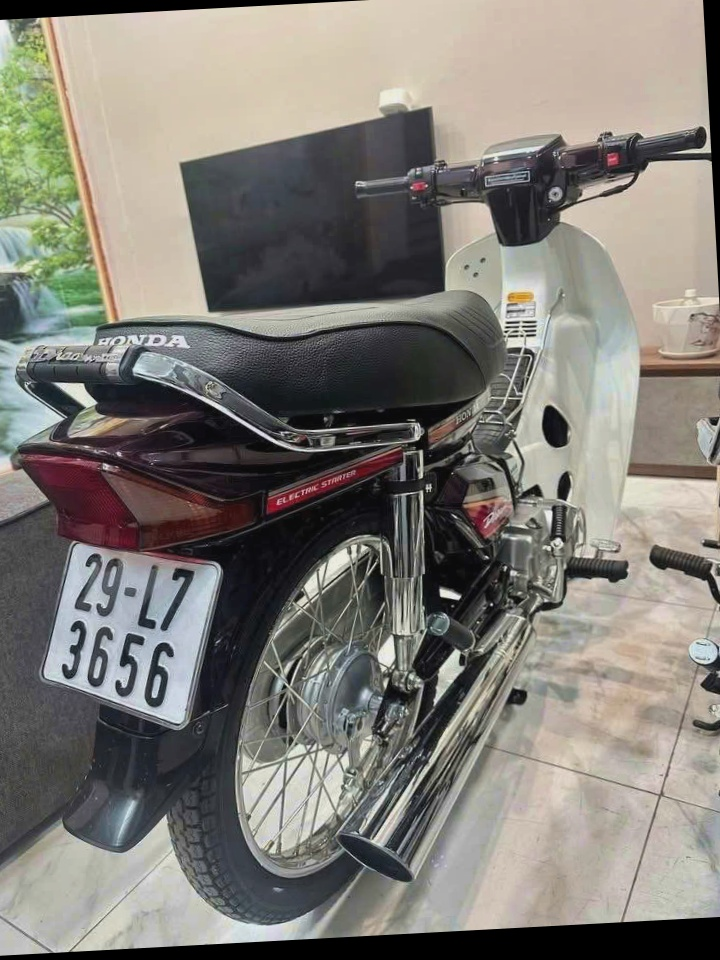Bien-so: (37, 529, 222, 735)
